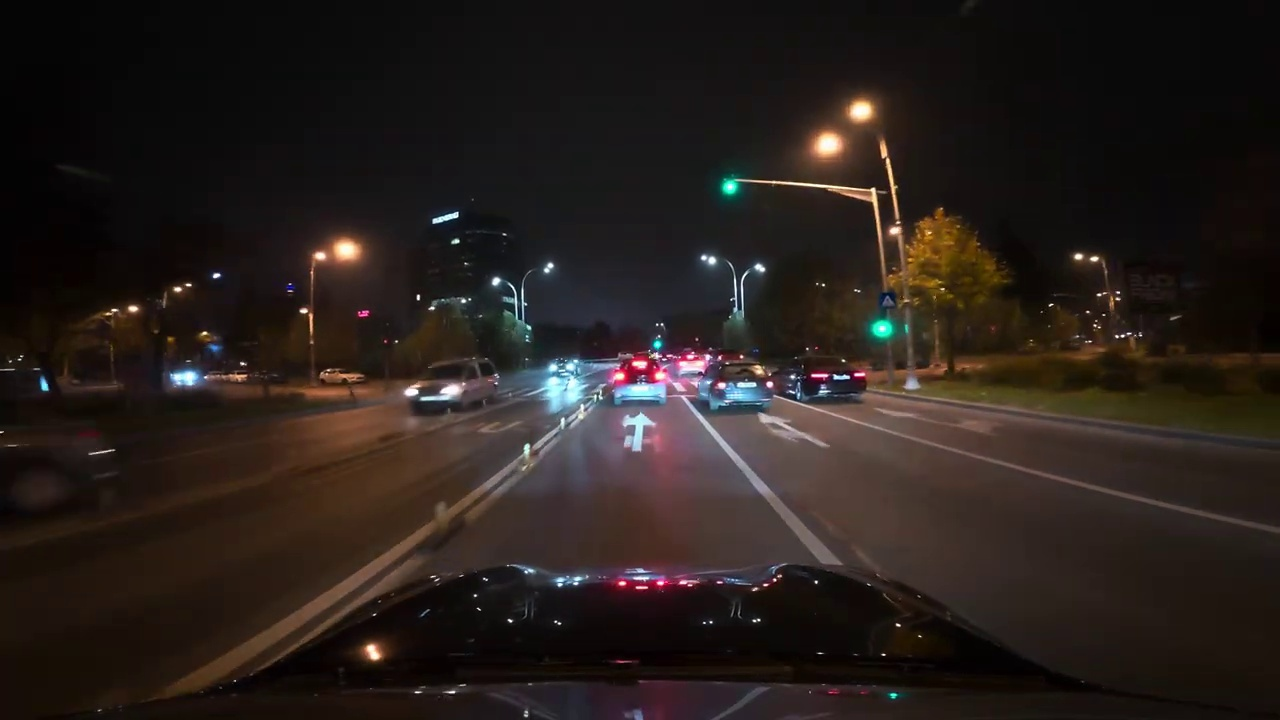acesa: (838, 101, 880, 138), (330, 237, 362, 264), (812, 132, 843, 159), (848, 98, 875, 122)
